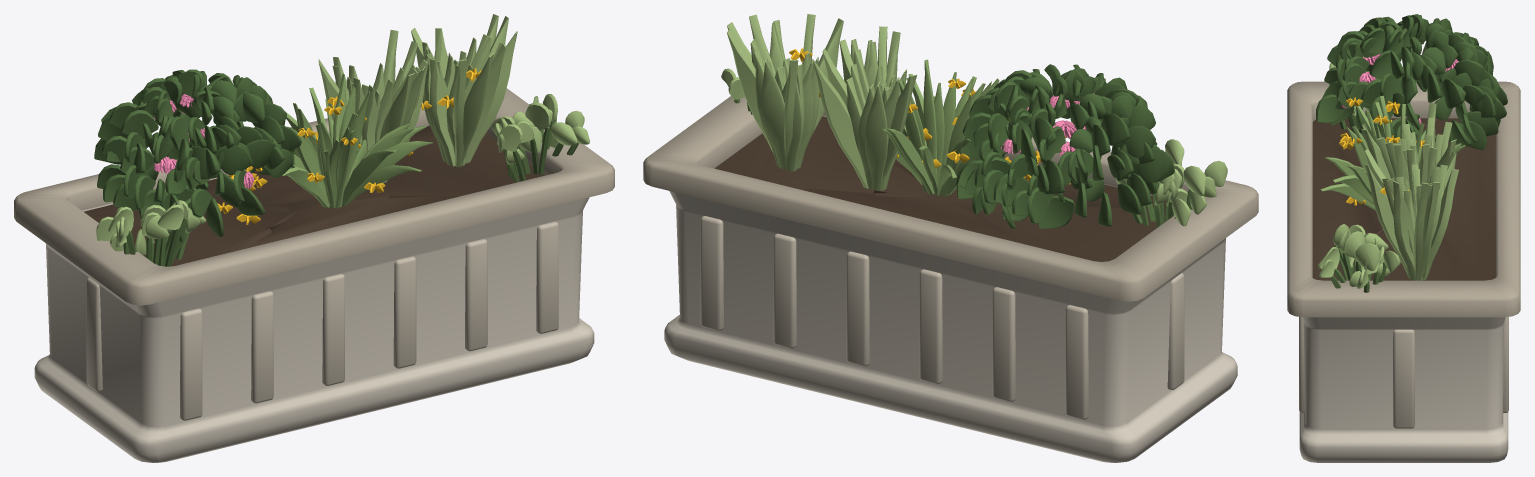
The model's file is bac_roses.glb.
The picture shows the model from 3 angles, left to right: view 1: azimuth 30°, elevation 25°; view 2: azimuth 150°, elevation 25°; view 3: azimuth 270°, elevation 25°; orthographic projection. The views are drawn at different scales.
Parts seen in each view (by area): view 1: MXD_Maconnerie, MXD_Couronnement, MXD_Feuille_Fonce, MXD_Feuille_Tendre, MXD_Nervures, MXD_Terre, MXD_Feuille_Clair, MXD_Tige, MXD_Fl_Jaune, MXD_Fl_Rose; view 2: MXD_Maconnerie, MXD_Couronnement, MXD_Feuille_Fonce, MXD_Feuille_Tendre, MXD_Nervures, MXD_Terre, MXD_Feuille_Clair, MXD_Fl_Jaune, MXD_Tige, MXD_Fl_Rose; view 3: MXD_Maconnerie, MXD_Couronnement, MXD_Feuille_Fonce, MXD_Feuille_Tendre, MXD_Terre, MXD_Nervures, MXD_Feuille_Clair, MXD_Tige, MXD_Fl_Jaune, MXD_Fl_Rose.
Boxes of the visible parts, x1,y1,x2,y2 form: MXD_Maconnerie: (34,170,594,462); MXD_Couronnement: (14,88,614,305); MXD_Feuille_Fonce: (94,69,301,242); MXD_Feuille_Tendre: (96,14,589,254); MXD_Nervures: (86,221,558,420); MXD_Terre: (84,126,545,266); MXD_Feuille_Clair: (282,74,432,208); MXD_Tige: (123,121,578,266); MXD_Fl_Jaune: (217,68,481,224); MXD_Fl_Rose: (153,94,254,188); MXD_Maconnerie: (664,115,1237,462); MXD_Couronnement: (643,96,1258,301); MXD_Feuille_Fonce: (956,64,1174,229); MXD_Feuille_Tendre: (721,14,1227,226); MXD_Nervures: (700,216,1184,419); MXD_Terre: (714,116,1165,261); MXD_Feuille_Clair: (882,59,999,196); MXD_Fl_Jaune: (789,48,1070,184); MXD_Tige: (734,99,1192,227); MXD_Fl_Rose: (1001,93,1094,155); MXD_Maconnerie: (1299,317,1508,462); MXD_Couronnement: (1287,81,1520,317); MXD_Feuille_Fonce: (1316,14,1507,149); MXD_Feuille_Tendre: (1317,63,1458,288); MXD_Terre: (1312,118,1495,280); MXD_Nervures: (1299,316,1508,428); MXD_Feuille_Clair: (1320,95,1465,210); MXD_Tige: (1329,86,1386,292); MXD_Fl_Jaune: (1339,97,1424,205); MXD_Fl_Rose: (1341,53,1458,124).
Bounding box in the file's own units: 1.47 × 0.9151 × 0.66.
